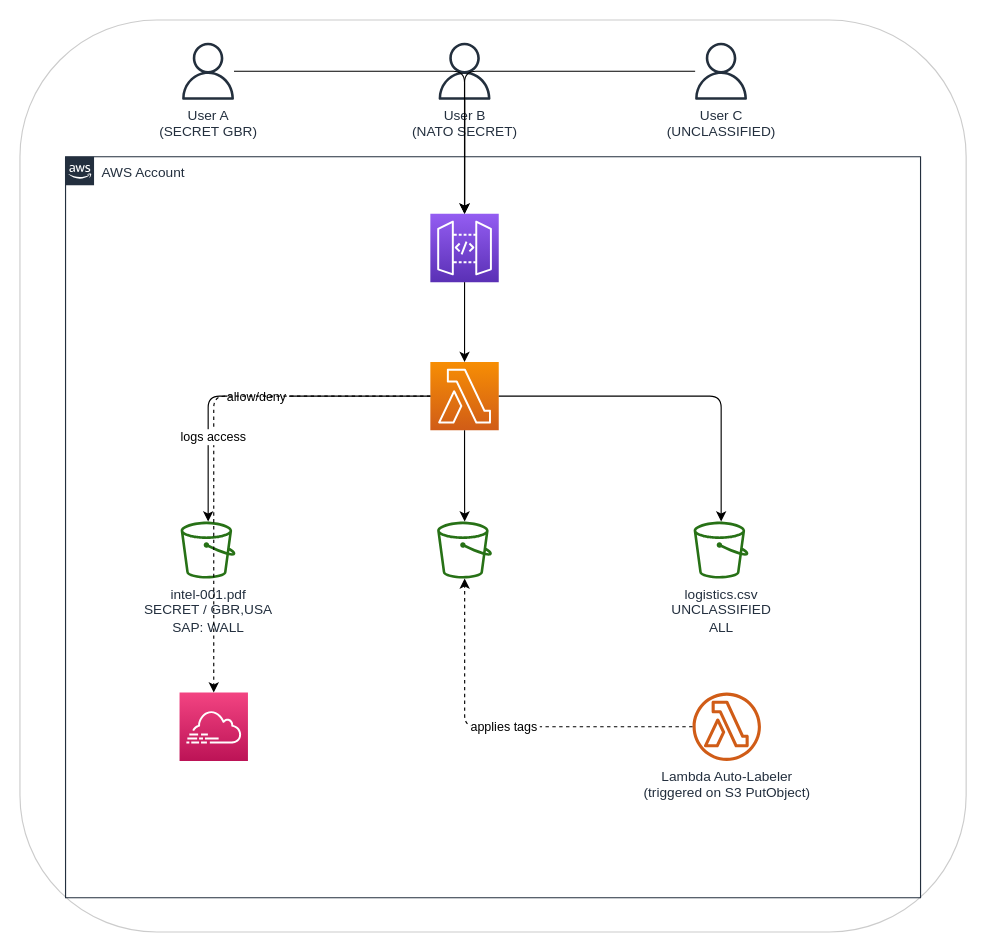
This 986x952 diagram has some shape labels left out. The shapes that lost their labels are listed below. From the top down, each one's centre as x and y in pixels, then its label:
At (464,247): "API Gateway (Authorization layer)".
At (464,395): "Lambda Authorizer (user attrs vs data labels)".
At (463,549): "sitrep-042.json NATO-SECRET GBR,USA,POL".
At (213,726): "CloudTrail (audit trail)".
